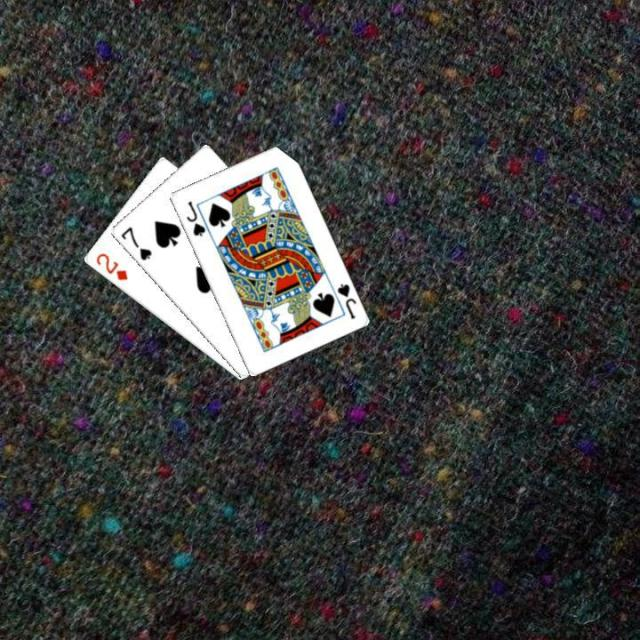2D: (91, 249, 129, 283)
7S: (116, 223, 154, 262)
JS: (332, 280, 358, 321), (182, 198, 207, 238)
